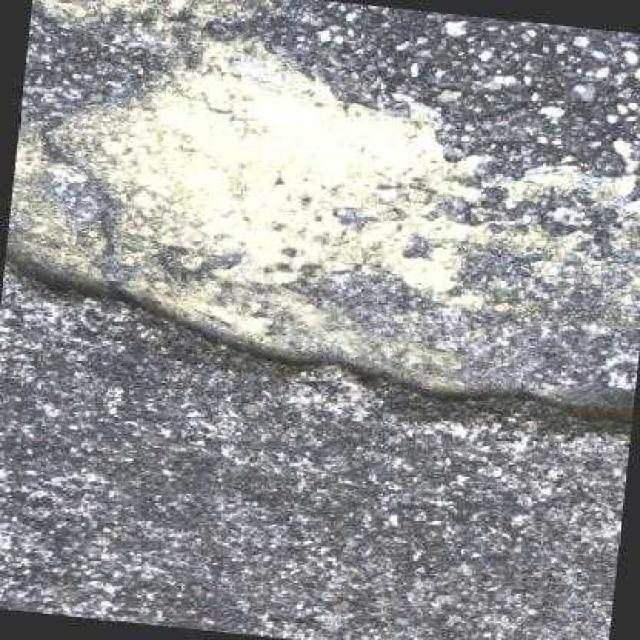D00: (4, 247, 633, 427)
